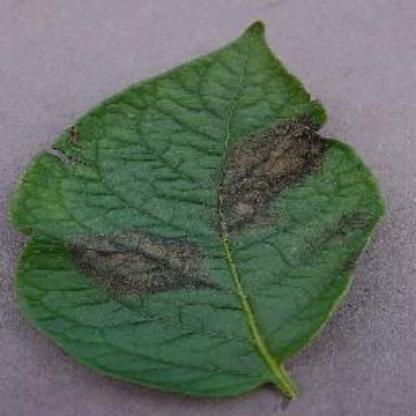Late-Blight: (12, 16, 390, 404)
